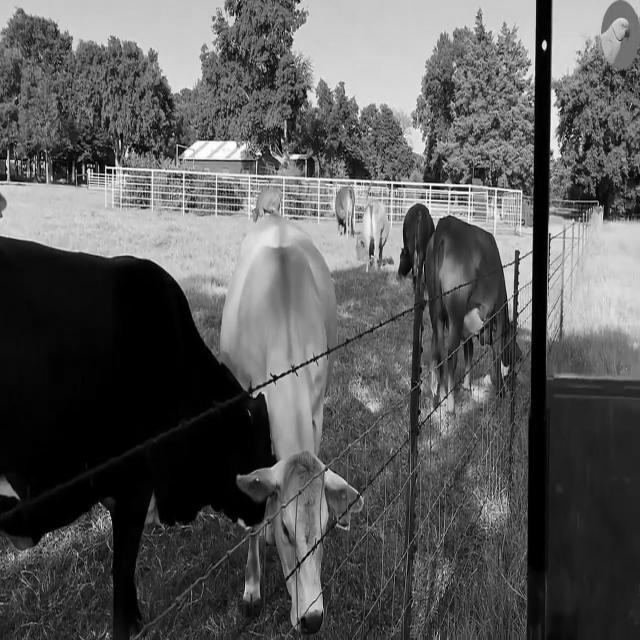cow: (0, 236, 271, 639), (220, 215, 362, 633), (425, 216, 519, 414), (399, 204, 435, 287)
